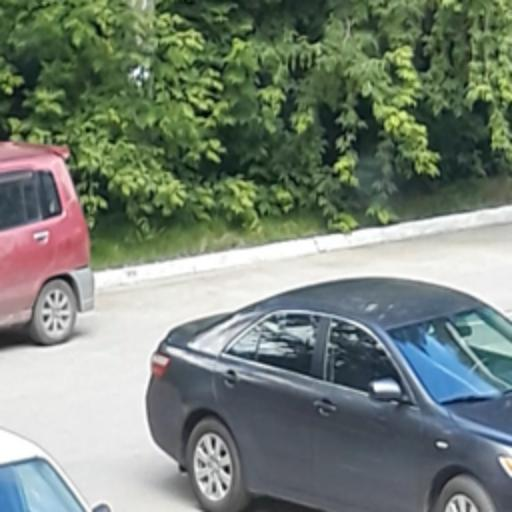car: (142, 270, 508, 510), (0, 136, 104, 350), (0, 424, 112, 510)
